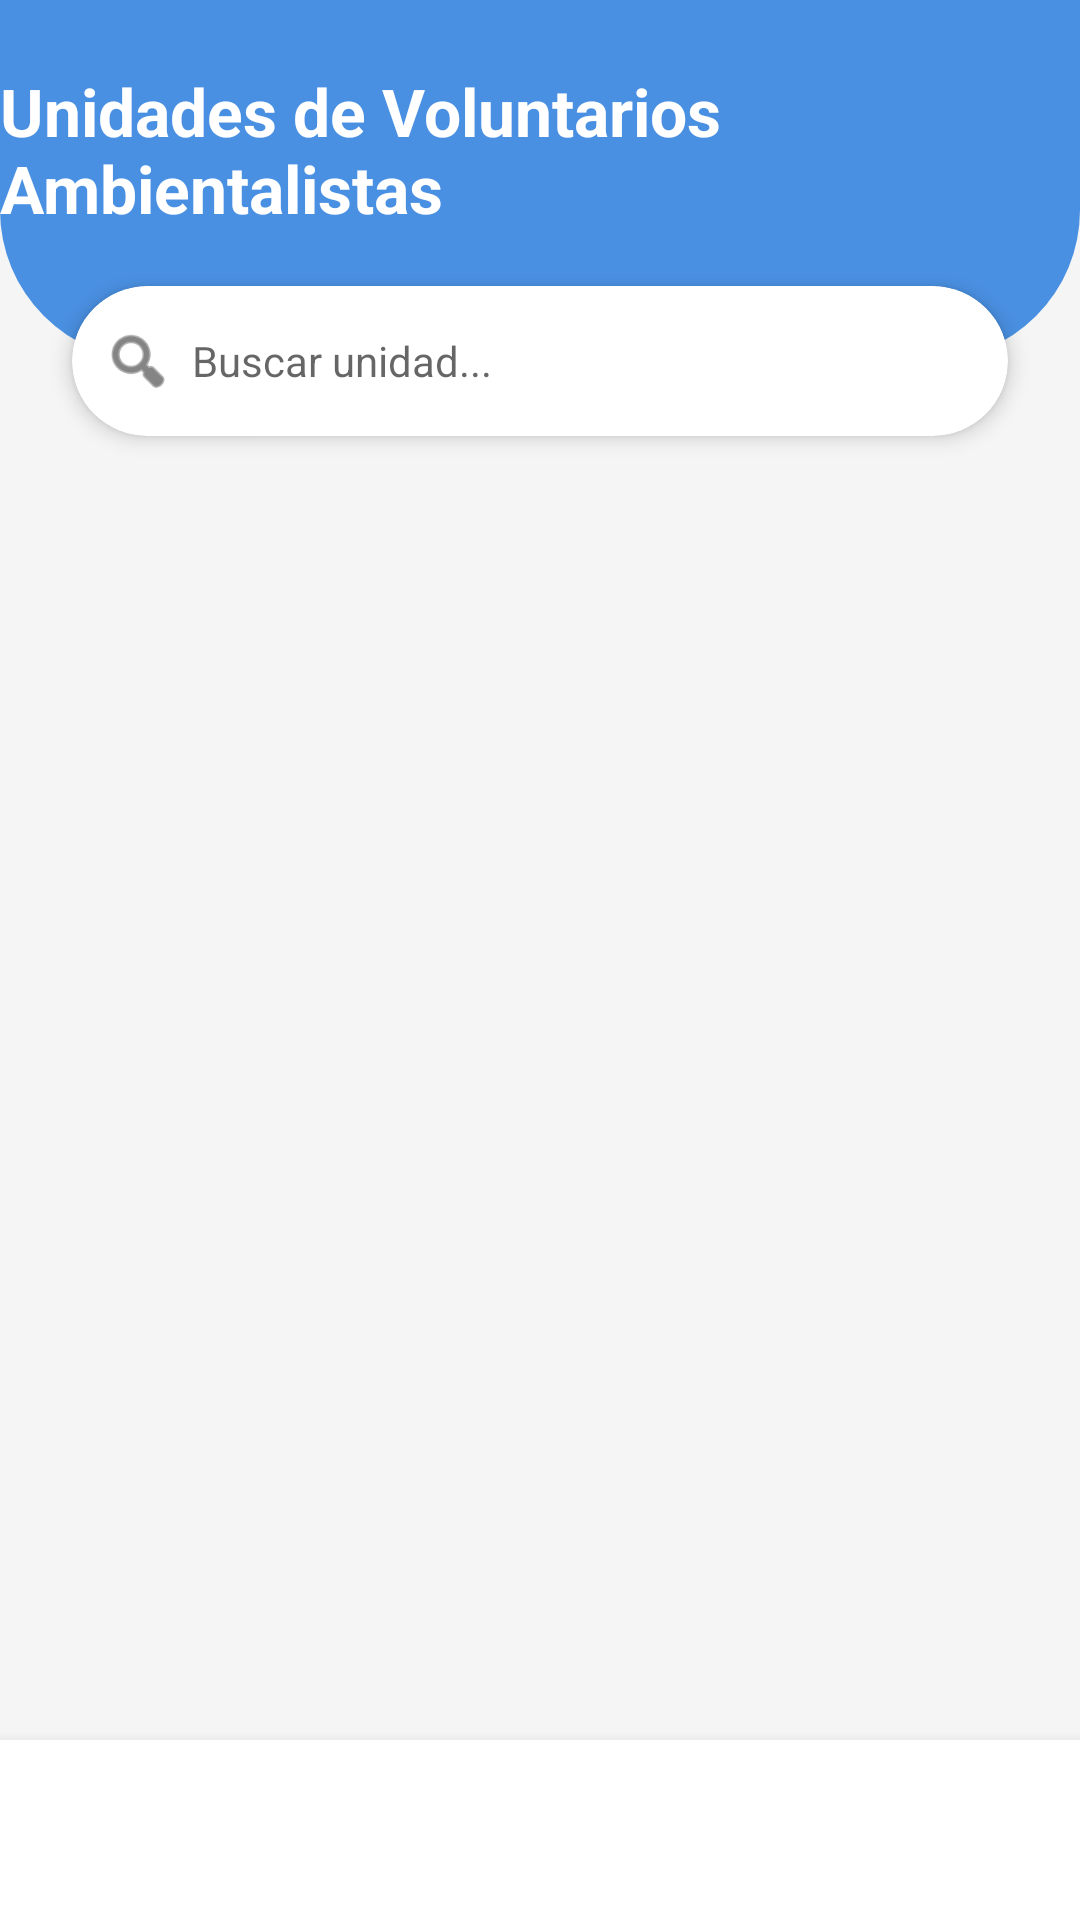

Point at icon controls on the screen. Image size 1080 x 1920, points as [x,y].
search: [138,361]
